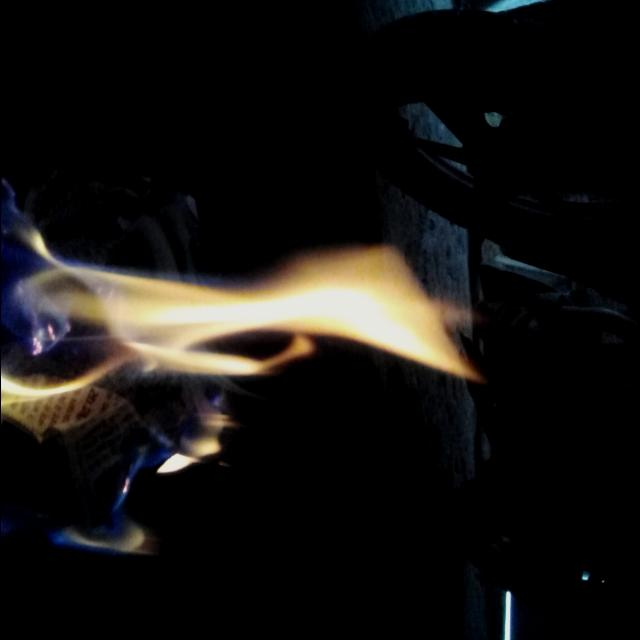firerotation: (0, 170, 487, 557)
